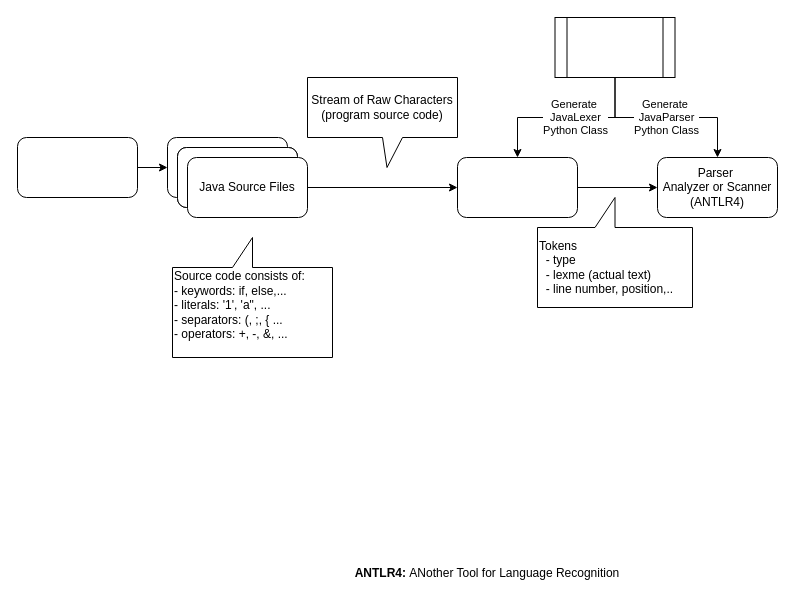
Some shapes in this 795 by 600 pixel diagram are drawn without their labels. The centre of each missing label's shape, as x and y in pixels:
"Git Repositories (Java sources)" goes at (77,167).
"Java 24 Grammar Definition" goes at (614,47).
"Lexical Analyzer or Scanner (ANTLR4)" goes at (517,187).
